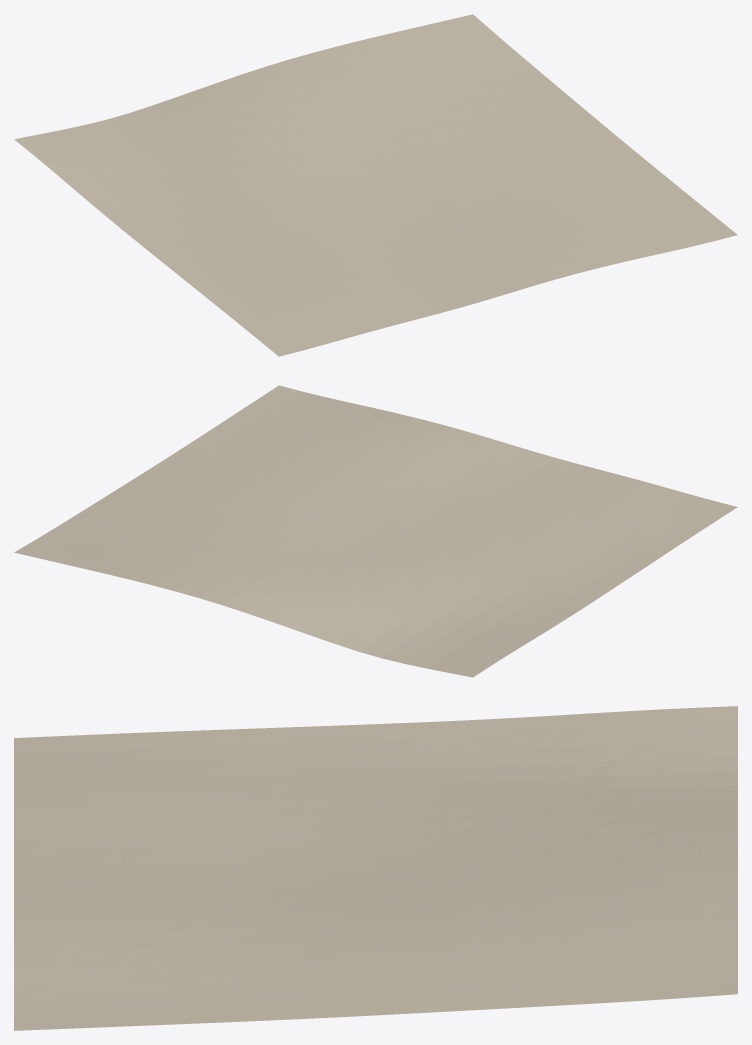
Rendered from bolak_9_-7.glb.
3 renders of one model, top to bottom at view 1: azimuth 30°, elevation 25°; view 2: azimuth 150°, elevation 25°; view 3: azimuth 270°, elevation 25°, orthographic. The views are drawn at different scales.
Parts seen in each view (by area): view 1: Yer_Tuproq-col; view 2: Yer_Tuproq-col; view 3: Yer_Tuproq-col.
Boxes of the visible parts, left/top/right/bottom form: Yer_Tuproq-col: left=14, top=14, right=737, bottom=356; Yer_Tuproq-col: left=14, top=385, right=737, bottom=677; Yer_Tuproq-col: left=14, top=706, right=737, bottom=1030.
Bounding box in the file's own units: 400 × 31.34 × 400.
